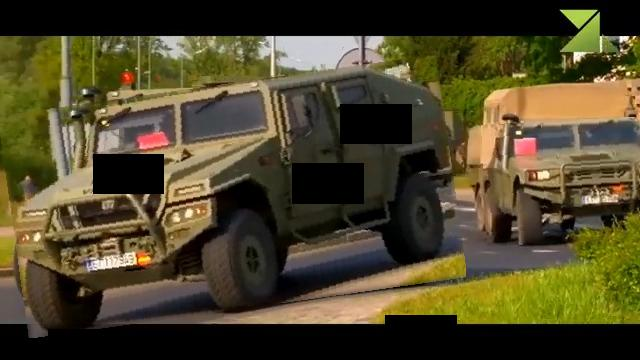MIL_HMMWV: (3, 69, 460, 324), (482, 118, 640, 244)
